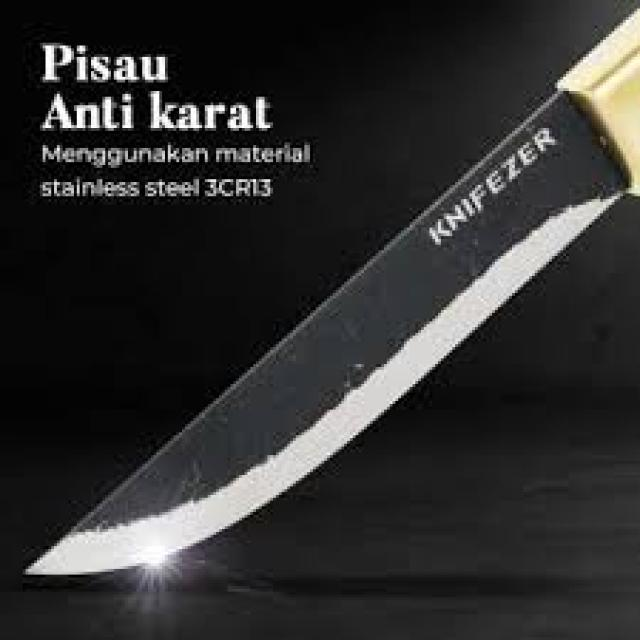Knife: (28, 11, 637, 575)
